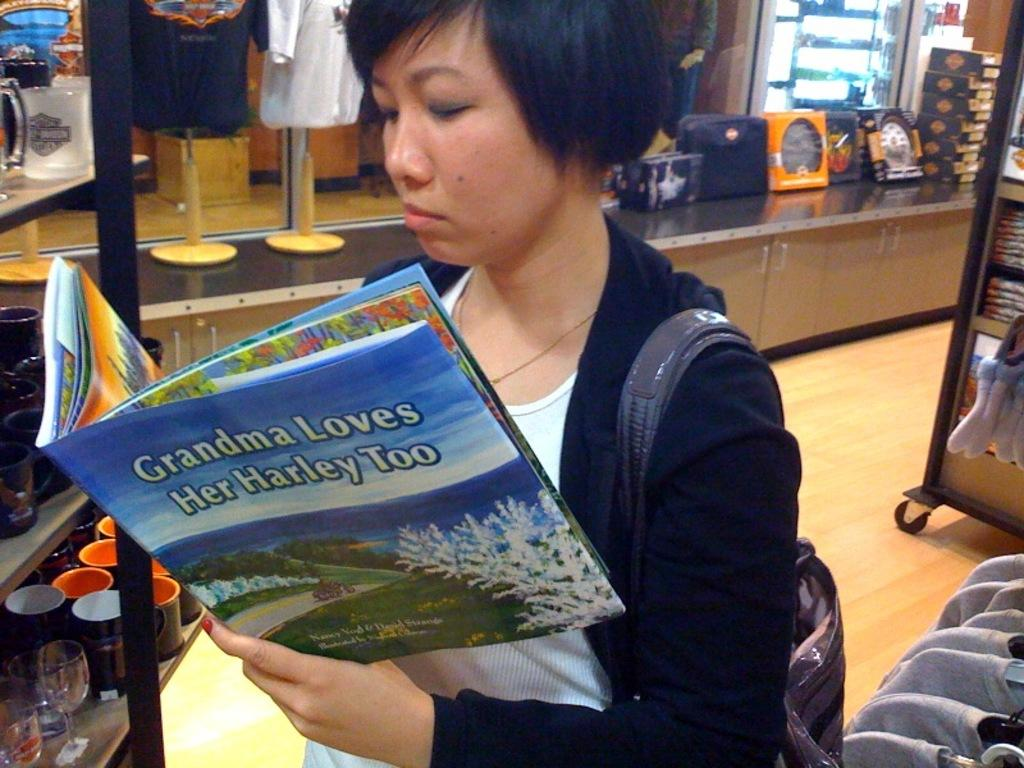Book: (8, 279, 634, 685)
